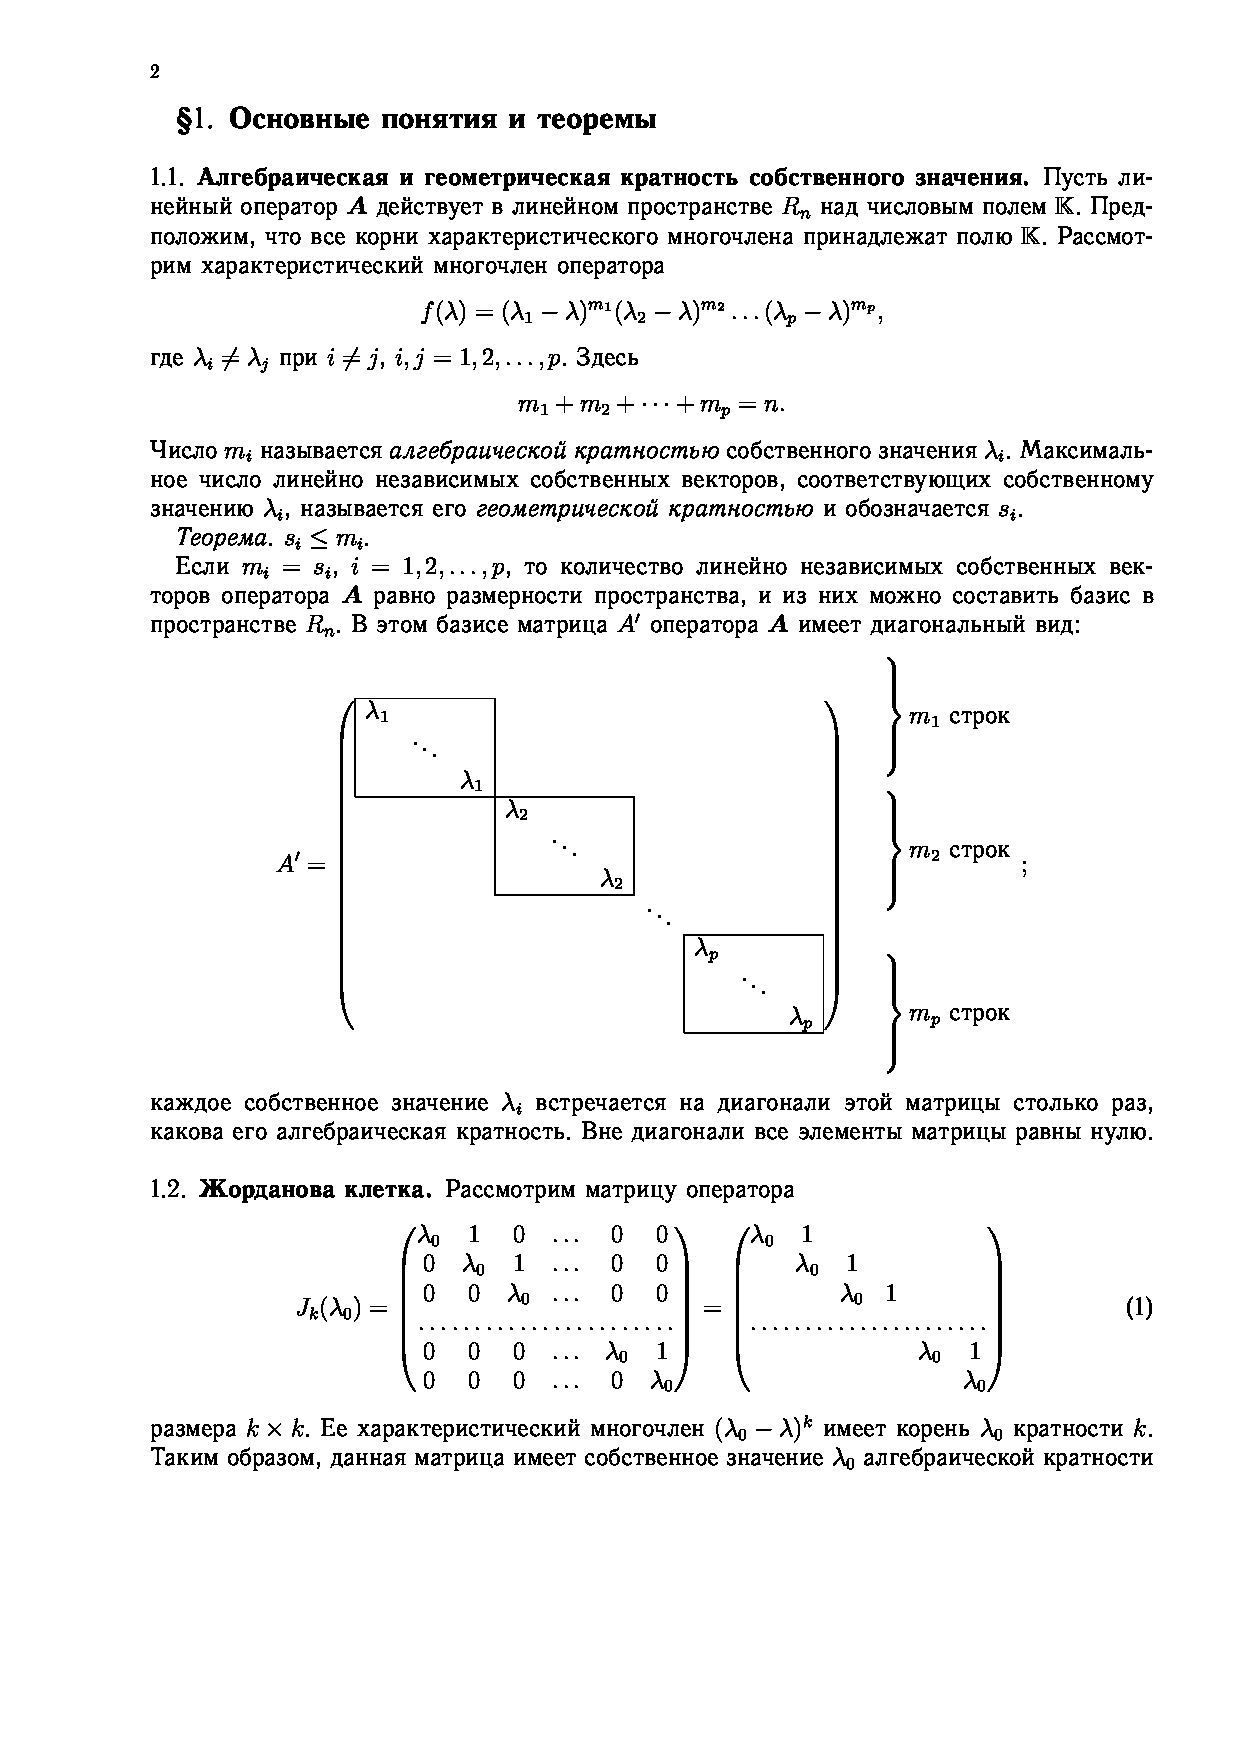pMatrix: (337, 691, 845, 1040), (403, 1223, 690, 1396), (735, 1220, 1002, 1398)
